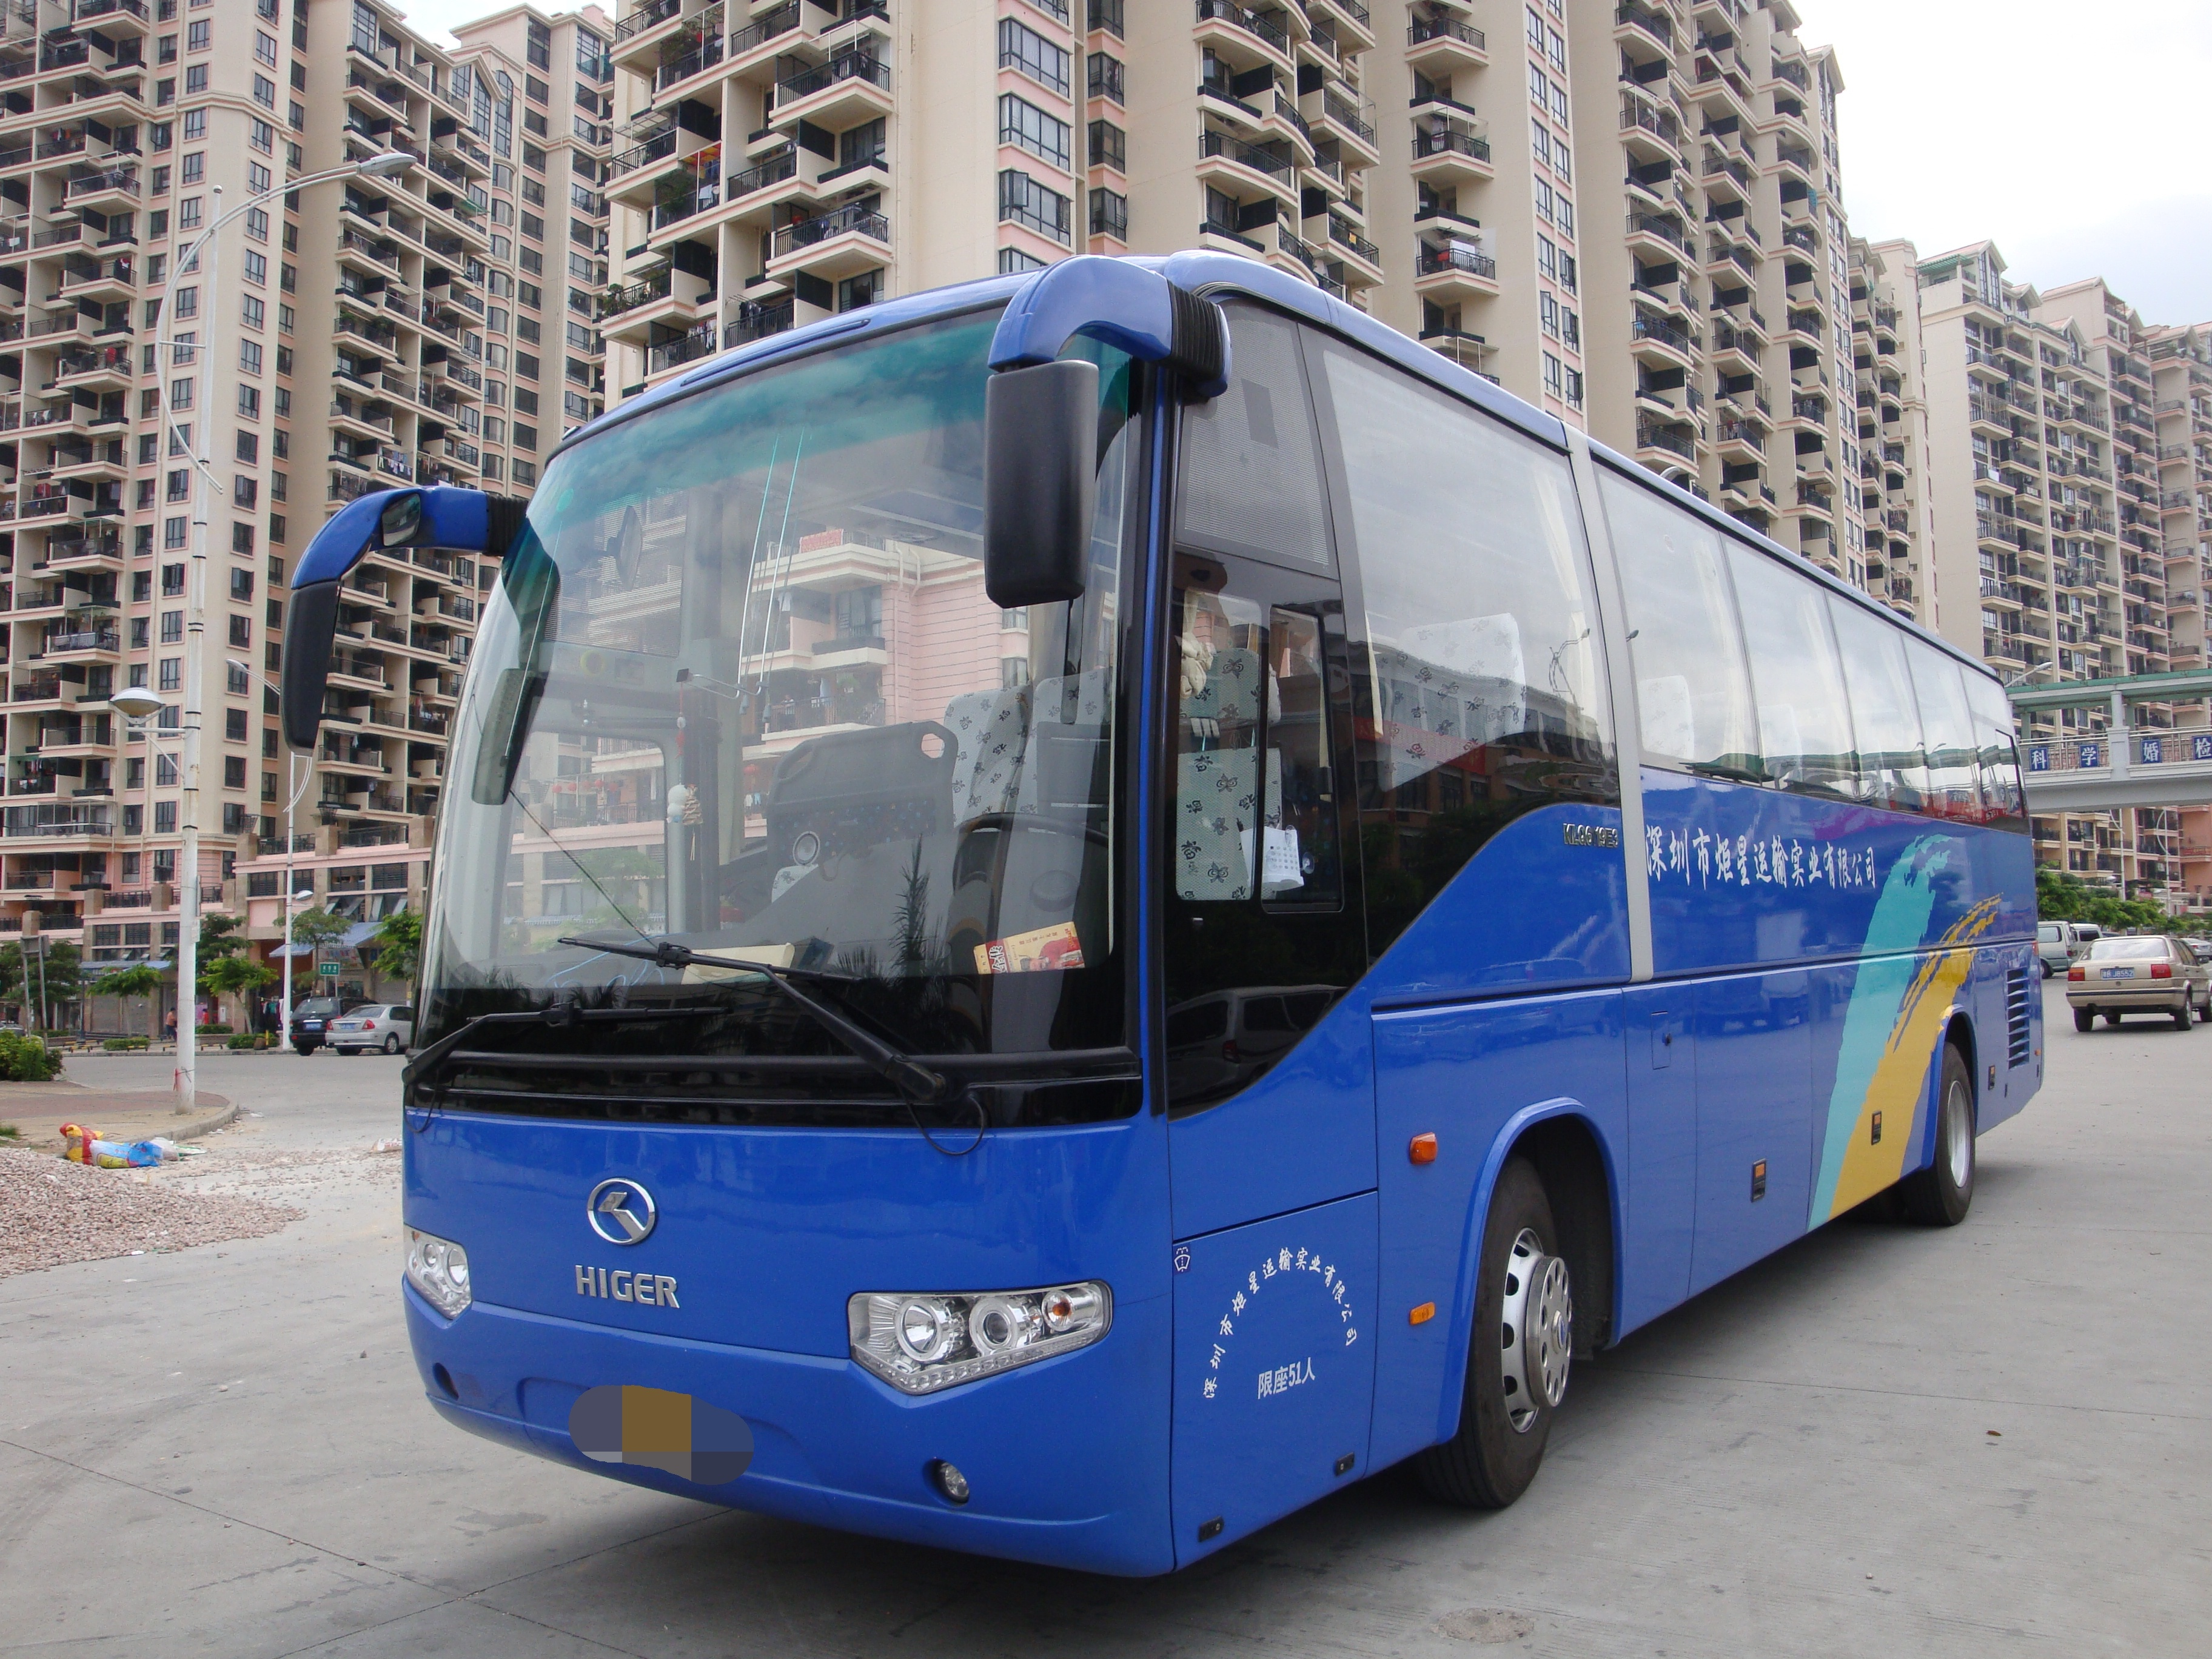bus: (291, 267, 2074, 1554)
